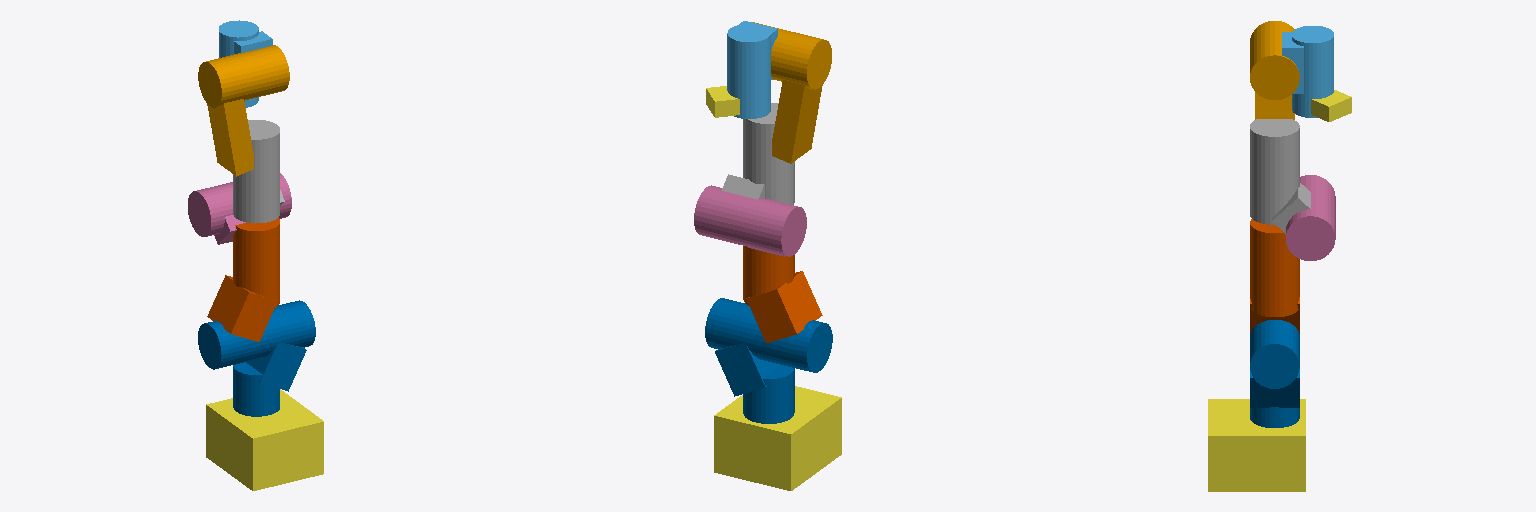
The robot description file, URDF, robot "franka":
<?xml version="1.0" ?>
<!-- =================================================================================== -->
<!-- |    This document was autogenerated by xacro from config/franka.urdf.xacro       | -->
<!-- |    EDITING THIS FILE BY HAND IS NOT RECOMMENDED                                 | -->
<!-- =================================================================================== -->
<robot name="franka" xmlns:xacro="http://www.ros.org/wiki/xacro">
  <link name="world">
  </link>
  <joint name="base_foot_world" type="fixed">
    <parent link="world"/>
    <child link="base_footprint"/>
    <origin rpy="0 0 0" xyz="0 0 0"/>
  </joint>
  <link name="base_link">
  </link>
  <link name="base_footprint"/>
  <joint name="base_foot_joint" type="fixed">
    <parent link="base_footprint"/>
    <child link="base_link"/>
    <origin rpy="0 0 0" xyz="0 0 0"/>
  </joint>
  <joint name="franka_0_joint_base_link" type="fixed">
    <parent link="base_link"/>
    <child link="franka_0_link0"/>
    <origin rpy="0 0 1.5708" xyz="0 0 0"/>
  </joint>
  <link name="franka_0_link0">
    <!-- <collision>
        <geometry>
          <mesh filename="meshes/collision/link0.obj"/>
        </geometry>
      </collision> -->
    <!-- <visual>
        <geometry>
          <mesh filename="meshes/collision/link0.obj"/>
        </geometry>
      </visual> -->
    <collision>
      <origin rpy="0 0 0" xyz="-0.041 0 0.0705"/>
      <geometry>
        <box size="0.227 0.2 0.141"/>
      </geometry>
    </collision>
    <visual>
      <origin rpy="0 0 0" xyz="-0.041 0 0.0705"/>
      <geometry>
        <box size="0.227 0.2 0.141"/>
      </geometry>
    </visual>
  </link>
  <link name="franka_0_link1">
    <!-- <collision>
        <geometry>
          <mesh filename="meshes/collision/link1.obj"/>
        </geometry>
      </collision> -->
    <!-- <visual>
        <geometry>
          <mesh filename="meshes/collision/link1.obj"/>
        </geometry>
      </visual> -->
   <inertial>
      <origin rpy="0 0 0" xyz="0 -0.03 0.12"/>
      <mass value="2.74"/>
      <!--4-->
      <!--<inertia ixx="0.1" ixy="0" ixz="0" iyy="0.09" iyz="0" izz="0.02"/>-->
      <!--<original urdf value>-->
      <inertia ixx="0.033" ixy="0" ixz="0" iyy="0.0333" iyz="0.004887" izz="0.0123"/>
      <!--<TODO(YeZhao): lumped parameter estimation>-->
    </inertial>

    <collision>
      <origin rpy="0 0 0" xyz="0 0 -0.137"/>
      <geometry>
        <cylinder length="0.112" radius="0.0575"/>
      </geometry>
    </collision>
    <visual>
      <origin rpy="0 0 0" xyz="0 0 -0.137"/>
      <geometry>
        <cylinder length="0.112" radius="0.0575"/>
      </geometry>
    </visual>
    <collision>
      <origin rpy="0.4799655 0 0" xyz="0 -0.0416 -0.0707"/>
      <geometry>
        <box size="0.115 0.09 0.112"/>
      </geometry>
    </collision>
    <visual>
      <origin rpy="0.4799655 0 0" xyz="0 -0.0416 -0.0707"/>
      <geometry>
        <box size="0.115 0.09 0.112"/>
      </geometry>
    </visual>
    <collision>
      <origin rpy="1.5708 0 0" xyz="0 0 0"/>
      <geometry>
        <cylinder length="0.264" radius="0.0575"/>
      </geometry>
    </collision>
    <visual>
      <origin rpy="1.5708 0 0" xyz="0 0 0"/>
      <geometry>
        <cylinder length="0.264" radius="0.0575"/>
      </geometry>
    </visual>
  </link>
  <joint name="franka_0_joint1" type="revolute">
    <safety_controller k_position="100.0" k_velocity="40.0" soft_lower_limit="-2.8973" soft_upper_limit="0.1"/>
    <origin rpy="0 0 0" xyz="0 0 0.333"/>
    <parent link="franka_0_link0"/>
    <child link="franka_0_link1"/>
    <axis xyz="0 0 1"/>
    <!-- <limit effort="87" lower="-2.8873" upper="0.1" velocity="2.1750"/> -->
  </joint>
  <link name="franka_0_link2">
    <!-- <collision>
        <geometry>
          <cylinder radius="0.09" length="0.25"/>
           <mesh filename="meshes/collision/link2.obj"/>
        </geometry>
      </collision> -->
    <!-- <visual>
        <geometry>
          <cylinder radius="0.09" length="0.25"/>
           <mesh filename="meshes/collision/link2.obj"/>
        </geometry>
      </visual> -->
    <collision>
      <origin rpy="-1.090831 0 0" xyz="0 -0.0795 0.0401"/>
      <geometry>
        <box size="0.115 0.09 0.112"/>
      </geometry>
    </collision>
    <visual>
      <origin rpy="-1.090831 0 0" xyz="0 -0.0795 0.0401"/>
      <geometry>
        <box size="0.115 0.09 0.112"/>
      </geometry>
    </visual>
    <collision>
      <origin rpy="1.5708 0 0" xyz="0 -0.197 0"/>
      <geometry>
        <cylinder length="0.214" radius="0.0575"/>
      </geometry>
    </collision>
    <visual>
      <origin rpy="1.5708 0 0" xyz="0 -0.197 0"/>
      <geometry>
        <cylinder length="0.214" radius="0.0575"/>
      </geometry>
    </visual>
  </link>
  <joint name="franka_0_joint2" type="revolute">
    <safety_controller k_position="100.0" k_velocity="40.0" soft_lower_limit="-1.7628" soft_upper_limit="0.1"/>
    <origin rpy="-1.57079632679 0 0" xyz="0 0 0"/>
    <parent link="franka_0_link1"/>
    <child link="franka_0_link2"/>
    <axis xyz="0 0 1"/>
    <!-- <limit effort="87" lower="-1.7528" upper="0.1" velocity="2.1750"/> -->
  </joint>
  <link name="franka_0_link3">
    <!-- <collision>
        <geometry>
          <mesh filename="meshes/collision/link3.obj"/>
        </geometry>
      </collision> -->
    <!-- <visual>
        <geometry>
          <mesh filename="meshes/collision/link3.obj"/>
        </geometry>
      </visual> -->
    <collision>
      <origin rpy="0 0.785 0" xyz="0.045 0.028 -0.0333"/>
      <geometry>
        <box size="0.085 0.095 0.05"/>
      </geometry>
    </collision>
    <visual>
      <origin rpy="0 0.785 0" xyz="0.045 0.028 -0.0333"/>
      <geometry>
        <box size="0.085 0.095 0.05"/>
      </geometry>
    </visual>
    <collision>
      <origin rpy="1.5708 0 0" xyz="0.0825 0 0"/>
      <geometry>
        <cylinder length="0.226" radius="0.0575"/>
      </geometry>
    </collision>
    <visual>
      <origin rpy="1.5708 0 0" xyz="0.0825 0 0"/>
      <geometry>
        <cylinder length="0.226" radius="0.0575"/>
      </geometry>
    </visual>
  </link>
  <joint name="franka_0_joint3" type="revolute">
    <safety_controller k_position="100.0" k_velocity="40.0" soft_lower_limit="-2.8973" soft_upper_limit="2.8973"/>
    <origin rpy="1.57079632679 0 0" xyz="0 -0.316 0"/>
    <parent link="franka_0_link2"/>
    <child link="franka_0_link3"/>
    <axis xyz="0 0 1"/>
    <!-- <limit effort="87" lower="-2.8873" upper="2.8873" velocity="2.1750"/> -->
  </joint>
  <link name="franka_0_link4">
    <!-- <collision>
        <geometry>
          <mesh filename="meshes/collision/link4.obj"/>
        </geometry>
      </collision> -->
    <!-- <visual>
        <geometry>
          <mesh filename="meshes/collision/link4.obj"/>
        </geometry>
      </visual> -->
    <collision>
      <origin rpy="0 0 0.785" xyz="-0.0417 0.0388 0.0275"/>
      <geometry>
        <box size="0.085 0.05 0.095"/>
      </geometry>
    </collision>
    <visual>
      <origin rpy="0 0 0.785" xyz="-0.0417 0.0388 0.0275"/>
      <geometry>
        <box size="0.085 0.05 0.095"/>
      </geometry>
    </visual>
    <collision>
      <origin rpy="1.5708 0 0" xyz="-0.0825 0.121 0"/>
      <geometry>
        <cylinder length="0.224" radius="0.0575"/>
      </geometry>
    </collision>
    <visual>
      <origin rpy="1.5708 0 0" xyz="-0.0825 0.121 0"/>
      <geometry>
        <cylinder length="0.224" radius="0.0575"/>
      </geometry>
    </visual>
  </link>
  <joint name="franka_0_joint4" type="revolute">
    <safety_controller k_position="100.0" k_velocity="40.0" soft_lower_limit="-3.0718" soft_upper_limit="-0.0698"/>
    <origin rpy="1.57079632679 0 0" xyz="0.0825 0 0"/>
    <parent link="franka_0_link3"/>
    <child link="franka_0_link4"/>
    <axis xyz="0 0 1"/>
    <!-- <limit effort="87" lower="-3.0618" upper="-0.0798" velocity="2.1750"/> -->
  </joint>
  <link name="franka_0_link5">
    <!-- <collision>
        <geometry>
          <mesh filename="meshes/collision/link5.obj"/>
        </geometry>
      </collision> -->
    <!-- <visual>
        <geometry>
          <mesh filename="meshes/collision/link5.obj"/>
        </geometry>
      </visual> -->
    <collision>
      <origin rpy="-0.174533 0 0" xyz="0 0.075 -0.125"/>
      <geometry>
        <box size="0.092 0.056 0.22"/>
      </geometry>
    </collision>
    <visual>
      <origin rpy="-0.174533 0 0" xyz="0 0.075 -0.125"/>
      <geometry>
        <box size="0.092 0.056 0.22"/>
      </geometry>
    </visual>
    <collision>
      <origin rpy="1.5708 0 0" xyz="0 0.036 0"/>
      <geometry>
        <cylinder length="0.19" radius="0.0575"/>
      </geometry>
    </collision>
    <visual>
      <origin rpy="1.5708 0 0" xyz="0 0.036 0"/>
      <geometry>
        <cylinder length="0.19" radius="0.0575"/>
      </geometry>
    </visual>
  </link>
  <joint name="franka_0_joint5" type="revolute">
    <safety_controller k_position="100.0" k_velocity="40.0" soft_lower_limit="-2.8973" soft_upper_limit="2.8973"/>
    <origin rpy="-1.57079632679 0 0" xyz="-0.0825 0.384 0"/>
    <parent link="franka_0_link4"/>
    <child link="franka_0_link5"/>
    <axis xyz="0 0 1"/>
    <!-- <limit effort="12" lower="-2.8873" upper="2.8873" velocity="2.6100"/> -->
  </joint>
  <link name="franka_0_link6">
    <!-- <collision>
        <geometry>
          <mesh filename="meshes/collision/link6.obj"/>
        </geometry>
      </collision> -->
    <!-- <visual>
        <geometry>
          <mesh filename="meshes/collision/link6.obj"/>
        </geometry>
      </visual> -->
    <collision>
      <origin rpy="1.5708 0 0" xyz="0.088 -0.012 0"/>
      <geometry>
        <cylinder length="0.19" radius="0.049"/>
      </geometry>
    </collision>
    <visual>
      <origin rpy="1.5708 0 0" xyz="0.088 -0.012 0"/>
      <geometry>
        <cylinder length="0.19" radius="0.049"/>
      </geometry>
    </visual>
    <collision>
      <origin rpy="0 0 0" xyz="0.042 0.0154 0.01"/>
      <geometry>
        <box size="0.05 0.115 0.088"/>
      </geometry>
    </collision>
    <visual>
      <origin rpy="0 0 0" xyz="0.042 0.0154 0.01"/>
      <geometry>
        <box size="0.05 0.115 0.088"/>
      </geometry>
    </visual>
  </link>
  <joint name="franka_0_joint6" type="revolute">
    <safety_controller k_position="100.0" k_velocity="40.0" soft_lower_limit="-0.0175" soft_upper_limit="3.7525"/>
    <origin rpy="1.57079632679 0 0" xyz="0 0 0"/>
    <parent link="franka_0_link5"/>
    <child link="franka_0_link6"/>
    <axis xyz="0 0 1"/>
    <!-- <limit effort="12" lower="-0.0075" upper="3.7425" velocity="2.6100"/> -->
  </joint>
  <link name="franka_0_link7">
    <!-- <collision>
        <geometry>
          <mesh filename="meshes/collision/link7.obj"/>
        </geometry>
      </collision> -->
    <!-- <visual>
        <geometry>
          <mesh filename="meshes/collision/link7.obj"/>
        </geometry>
      </visual> -->
  </link>
  <joint name="franka_0_joint7" type="revolute">
    <safety_controller k_position="100.0" k_velocity="40.0" soft_lower_limit="-2.8973" soft_upper_limit="2.8973"/>
    <origin rpy="1.57079632679 0 0" xyz="0.088 0 0"/>
    <parent link="franka_0_link6"/>
    <child link="franka_0_link7"/>
    <axis xyz="0 0 1"/>
    <!-- <limit effort="12" lower="-2.8873" upper="2.8873" velocity="2.6100"/> -->
  </joint>
  <link name="franka_0_link8">
    <collision>
      <origin rpy="0 0 0.785398" xyz="0.0424 0.0424 -0.028"/>
      <geometry>
        <box size="0.06 0.075 0.04"/>
      </geometry>
    </collision>
    <visual>
      <origin rpy="0 0 0.785398" xyz="0.0424 0.0424 -0.028"/>
      <geometry>
        <box size="0.06 0.075 0.04"/>
      </geometry>
    </visual>
  </link>
  <joint name="franka_0_joint8" type="fixed">
    <origin rpy="0 0 0" xyz="0 0 0.107"/>
    <parent link="franka_0_link7"/>
    <child link="franka_0_link8"/>
    <axis xyz="0 0 0"/>
  </joint>

  <transmission name="franka_0_tran_1">
    <type>transmission_interface/SimpleTransmission</type>
    <joint name="franka_0_joint1">
      <hardwareInterface>PositionJointInterface</hardwareInterface>
    </joint>
    <actuator name="franka_0_motor_1">
      <hardwareInterface>PositionJointInterface</hardwareInterface>
      <mechanicalReduction>1</mechanicalReduction>
    </actuator>
  </transmission>
  <transmission name="franka_0_tran_2">
    <type>transmission_interface/SimpleTransmission</type>
    <joint name="franka_0_joint2">
      <hardwareInterface>PositionJointInterface</hardwareInterface>
    </joint>
    <actuator name="franka_0_motor_2">
      <hardwareInterface>PositionJointInterface</hardwareInterface>
      <mechanicalReduction>1</mechanicalReduction>
    </actuator>
  </transmission>
  <transmission name="franka_0_tran_3">
    <type>transmission_interface/SimpleTransmission</type>
    <joint name="franka_0_joint3">
      <hardwareInterface>PositionJointInterface</hardwareInterface>
    </joint>
    <actuator name="franka_0_motor_3">
      <hardwareInterface>PositionJointInterface</hardwareInterface>
      <mechanicalReduction>1</mechanicalReduction>
    </actuator>
  </transmission>
  <transmission name="franka_0_tran_4">
    <type>transmission_interface/SimpleTransmission</type>
    <joint name="franka_0_joint4">
      <hardwareInterface>PositionJointInterface</hardwareInterface>
    </joint>
    <actuator name="franka_0_motor_4">
      <hardwareInterface>PositionJointInterface</hardwareInterface>
      <mechanicalReduction>1</mechanicalReduction>
    </actuator>
  </transmission>
  <transmission name="franka_0_tran_5">
    <type>transmission_interface/SimpleTransmission</type>
    <joint name="franka_0_joint5">
      <hardwareInterface>PositionJointInterface</hardwareInterface>
    </joint>
    <actuator name="franka_0_motor_5">
      <hardwareInterface>PositionJointInterface</hardwareInterface>
      <mechanicalReduction>1</mechanicalReduction>
    </actuator>
  </transmission>
  <transmission name="franka_0_tran_6">
    <type>transmission_interface/SimpleTransmission</type>
    <joint name="franka_0_joint6">
      <hardwareInterface>PositionJointInterface</hardwareInterface>
    </joint>
    <actuator name="franka_0_motor_6">
      <hardwareInterface>PositionJointInterface</hardwareInterface>
      <mechanicalReduction>1</mechanicalReduction>
    </actuator>
  </transmission>
  <transmission name="franka_0_tran_7">
    <type>transmission_interface/SimpleTransmission</type>
    <joint name="franka_0_joint7">
      <hardwareInterface>PositionJointInterface</hardwareInterface>
    </joint>
    <actuator name="franka_0_motor_7">
      <hardwareInterface>PositionJointInterface</hardwareInterface>
      <mechanicalReduction>1</mechanicalReduction>
    </actuator>
  </transmission>

  <collision_filter_group name="base">
    <member link="base_link"/>
    <member link="base_footprint"/>
    <member link="franka_0_link0"/>
    <member link="franka_0_link1"/>
    <member link="franka_0_link2"/>
    <member link="franka_0_link3"/>
    <member link="franka_0_link4"/>
    <ignored_collision_filter_group collision_filter_group="base"/>
  </collision_filter_group>
  <collision_filter_group name="franka">
    <member link="franka_0_link3"/>
    <member link="franka_0_link4"/>
    <member link="franka_0_link5"/>
    <ignored_collision_filter_group collision_filter_group="franka"/>
  </collision_filter_group>
  <collision_filter_group name="end_effectors">
    <member link="franka_0_link5"/>
    <member link="franka_0_link6"/>
    <member link="franka_0_link7"/>
    <member link="franka_0_link8"/>
    <ignored_collision_filter_group collision_filter_group="end_effectors"/>
  </collision_filter_group>
</robot>

--- Facts derived from the render (not from the file) ---
Views: 3 orthographic renders of the robot side by side, from view 1: azimuth 30°, elevation 25°; view 2: azimuth 150°, elevation 25°; view 3: azimuth 270°, elevation 25°.
Model franka with 12 links and 11 joints (7 revolute, 4 fixed), rooted at world, posed all joints at 0.
Links seen in each view (by area): view 1: franka_0_link0, franka_0_link1, franka_0_link5, franka_0_link2, franka_0_link4, franka_0_link3, franka_0_link6; view 2: franka_0_link0, franka_0_link1, franka_0_link5, franka_0_link3, franka_0_link2, franka_0_link6, franka_0_link4, franka_0_link8; view 3: franka_0_link0, franka_0_link4, franka_0_link1, franka_0_link2, franka_0_link5, franka_0_link6, franka_0_link3, franka_0_link8.
Boxes of the visible links, x1=… form: franka_0_link0: x1=206, y1=389, x2=323, y2=490; franka_0_link1: x1=198, y1=300, x2=315, y2=416; franka_0_link5: x1=198, y1=45, x2=289, y2=176; franka_0_link2: x1=207, y1=217, x2=279, y2=341; franka_0_link4: x1=233, y1=120, x2=284, y2=223; franka_0_link3: x1=188, y1=173, x2=291, y2=244; franka_0_link6: x1=219, y1=20, x2=272, y2=107; franka_0_link0: x1=714, y1=386, x2=841, y2=490; franka_0_link1: x1=705, y1=298, x2=832, y2=423; franka_0_link5: x1=753, y1=22, x2=831, y2=163; franka_0_link3: x1=694, y1=185, x2=806, y2=256; franka_0_link2: x1=743, y1=246, x2=822, y2=343; franka_0_link6: x1=727, y1=21, x2=777, y2=118; franka_0_link4: x1=722, y1=103, x2=794, y2=204; franka_0_link8: x1=706, y1=86, x2=739, y2=117; franka_0_link0: x1=1208, y1=399, x2=1305, y2=491; franka_0_link4: x1=1250, y1=119, x2=1310, y2=233; franka_0_link1: x1=1250, y1=320, x2=1299, y2=427; franka_0_link2: x1=1250, y1=219, x2=1299, y2=333; franka_0_link5: x1=1250, y1=21, x2=1299, y2=119; franka_0_link6: x1=1282, y1=26, x2=1333, y2=117; franka_0_link3: x1=1286, y1=175, x2=1335, y2=260; franka_0_link8: x1=1311, y1=90, x2=1351, y2=121.
Size in the robot's own frame: 0.264 by 0.3326 by 1.12 metres.
Geometry: primitives only (box / cylinder / sphere), no mesh files.
